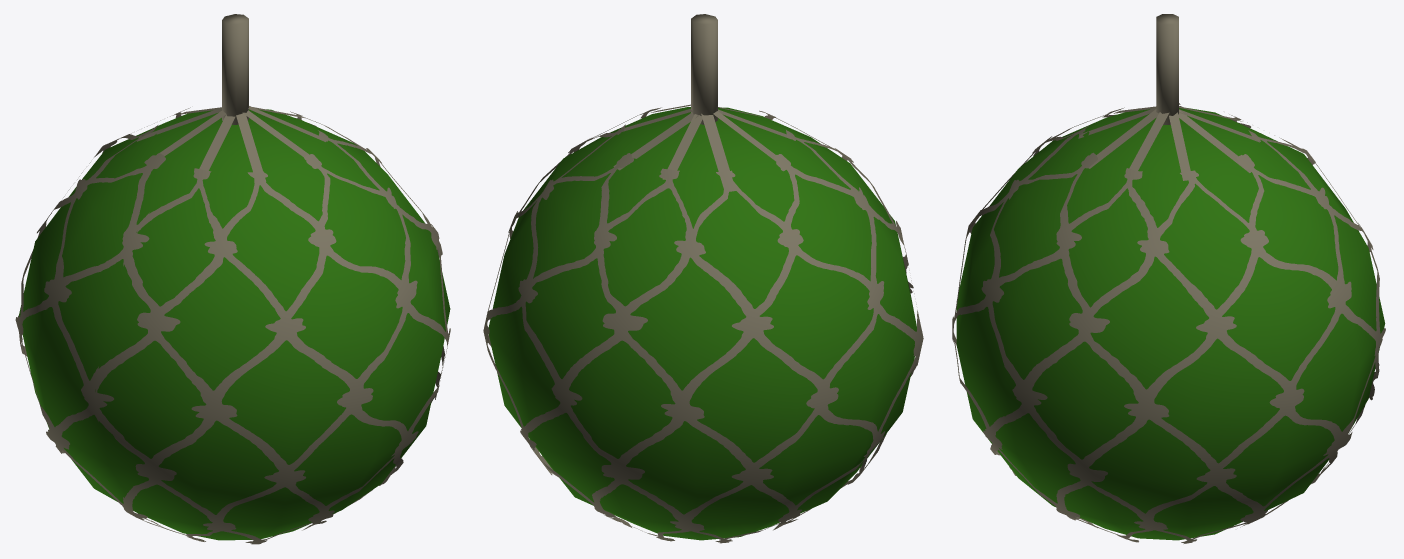
File: Glass Float.fbx
3 views of the same model, side by side, from view 1: azimuth 30°, elevation 25°; view 2: azimuth 150°, elevation 25°; view 3: azimuth 270°, elevation 25° (orthographic).
Visible parts, largest first — view 1: Sphere; view 2: Sphere; view 3: Sphere.
Boxes of the visible parts, x1,y1,x2,y2 form: Sphere: (15, 14, 450, 544); Sphere: (483, 14, 923, 543); Sphere: (952, 14, 1385, 543).
Size of the model in its own units: 203 by 254 by 201.
